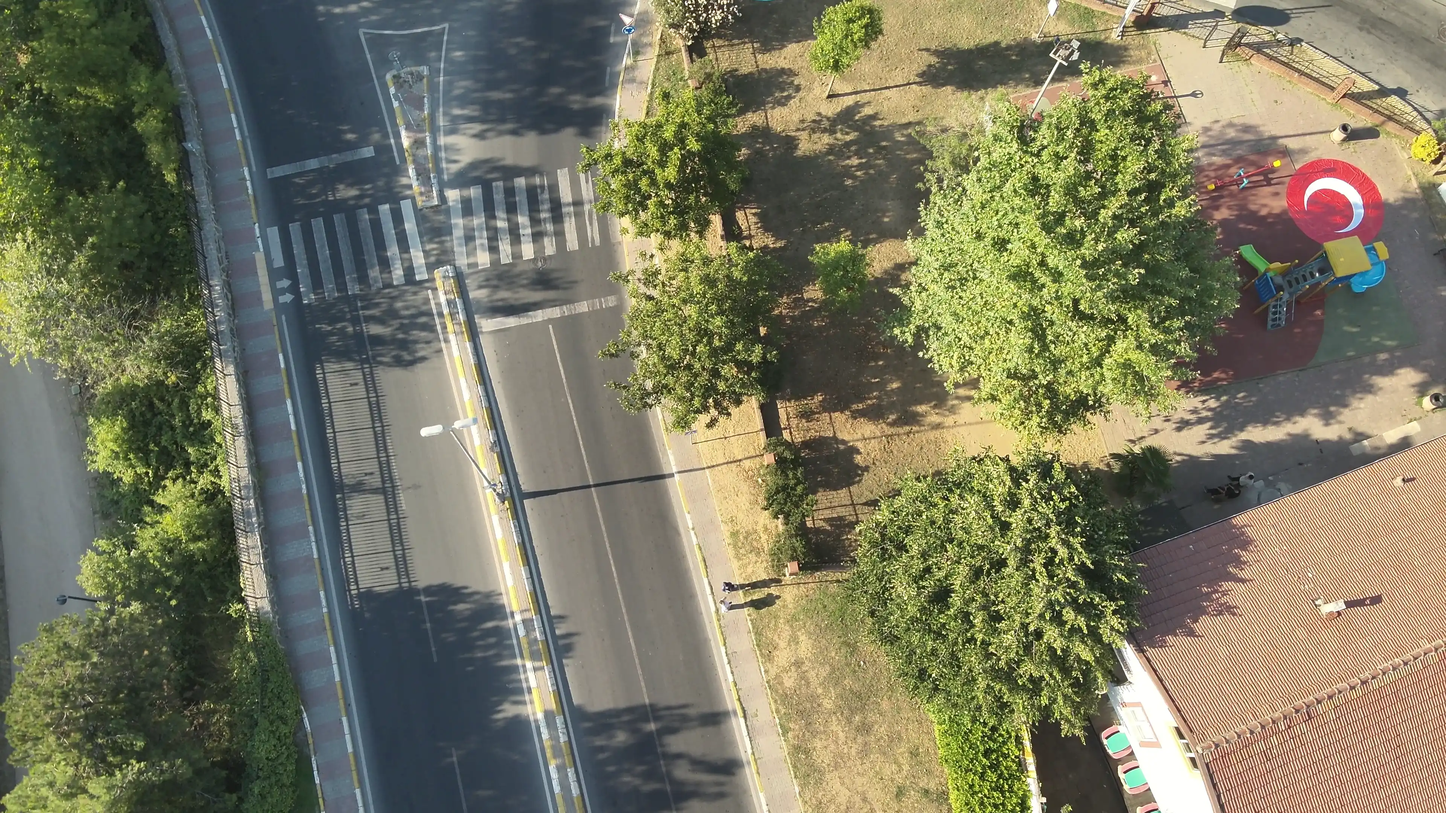person: (715, 600, 734, 615), (723, 581, 738, 597)
